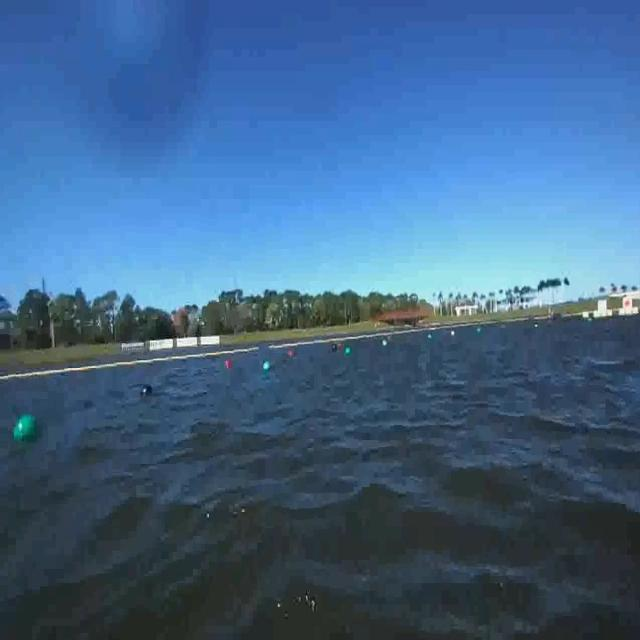black-buoy: (141, 384, 152, 396)
green-buoy: (16, 414, 42, 445), (345, 347, 352, 357)
